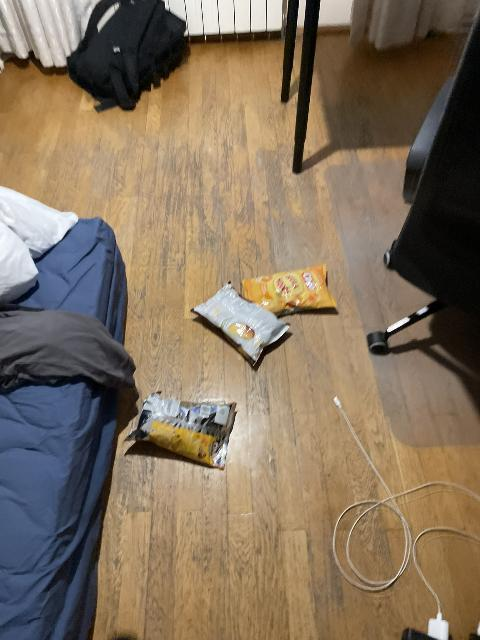Chio Cascaval 125g: (124, 391, 238, 469), (192, 279, 293, 364)
Chio Hula Hoops Cheese 70g: (241, 264, 336, 315)
